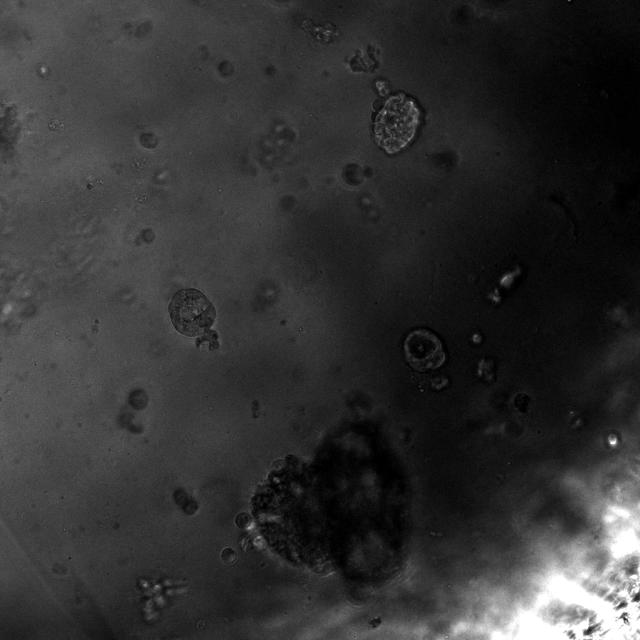organoid: (235, 392, 409, 586), (371, 77, 424, 155), (168, 288, 219, 350), (137, 577, 187, 623), (258, 120, 298, 169), (402, 328, 446, 371), (118, 387, 148, 433), (346, 44, 381, 73), (302, 19, 338, 43), (341, 162, 372, 187), (418, 369, 450, 391), (173, 487, 198, 514), (477, 358, 495, 383), (512, 392, 530, 413), (504, 420, 523, 438), (139, 132, 158, 149), (135, 228, 154, 245), (218, 59, 234, 76), (221, 547, 236, 562), (470, 331, 484, 346)
